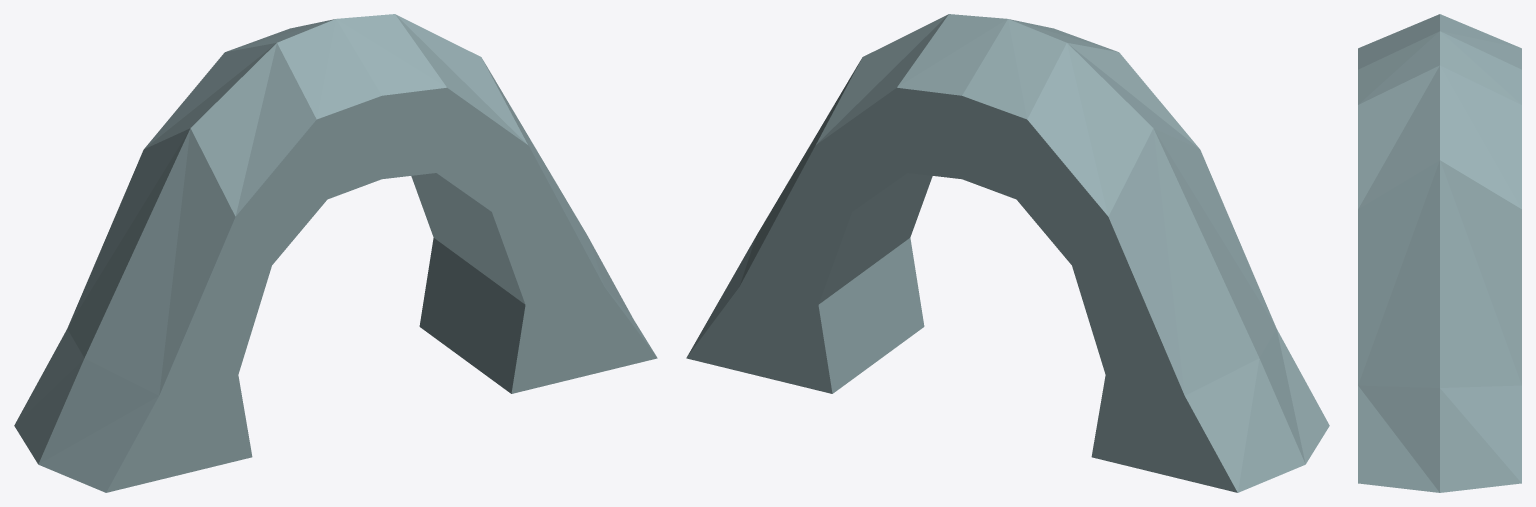
File: Dandelion_Portail3.FBX
The picture shows the model from 3 angles, left to right: view 1: azimuth 30°, elevation 25°; view 2: azimuth 150°, elevation 25°; view 3: azimuth 270°, elevation 25°; orthographic projection. The views are drawn at different scales.
Parts seen in each view (by area): view 1: Box004; view 2: Box004; view 3: Box004.
Part boxes in pixels (x1=…): Box004: x1=14, y1=14, x2=657, y2=492; Box004: x1=686, y1=14, x2=1329, y2=492; Box004: x1=1358, y1=14, x2=1521, y2=492.
Bounding box in the file's own units: 561 × 336 × 150.
